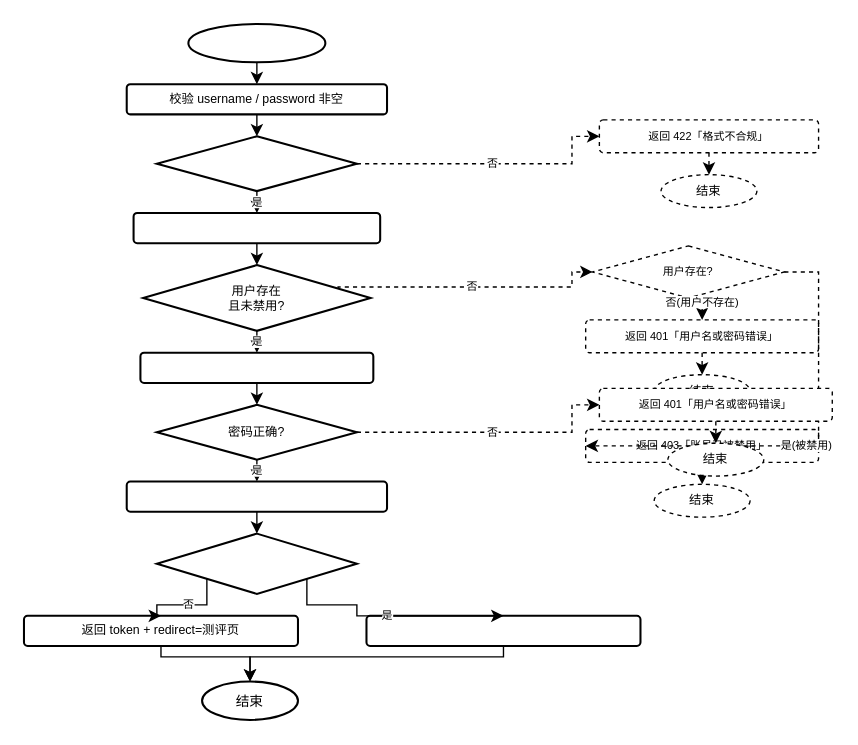
This 858x745 diagram has some shape labels left out. The shapes that lost their labels are listed below. From the top down, each one's centre as x and y in pixels, then its label:
At (x=256, y=42): "用户提交登录表单".
At (x=256, y=163): "非空?".
At (x=256, y=227): "查询 user_profiles 表".
At (x=256, y=367): "bcrypt 验证密码".
At (x=256, y=496): "生成 JWT Token (24h 有效期)".
At (x=256, y=563): "assessment completed?".
At (x=503, y=630): "返回 token + redirect=首页".
